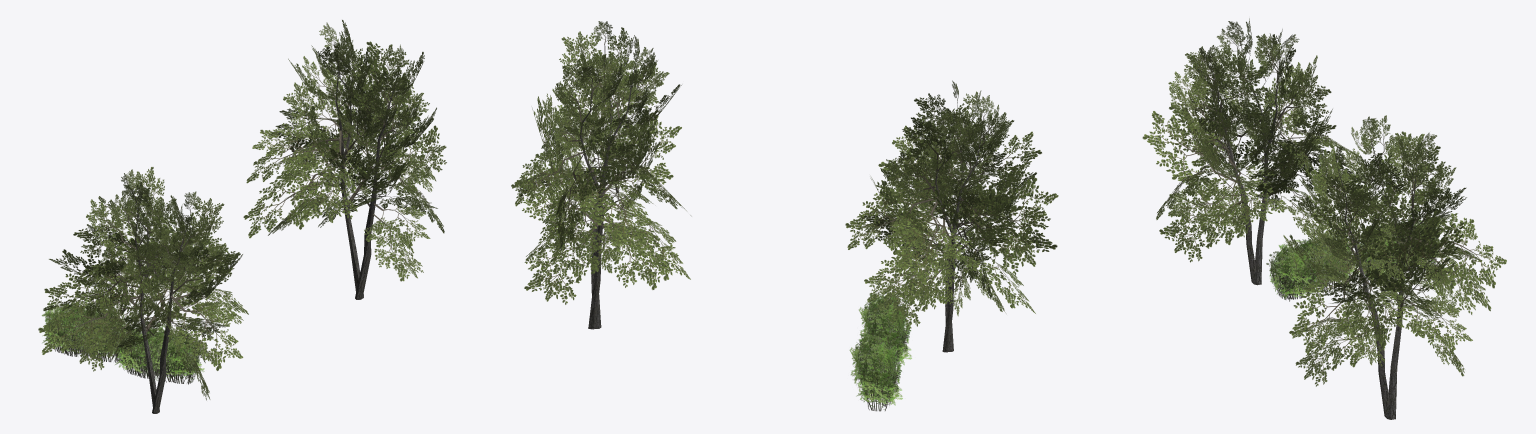
The model's file is BSN_Water_MainBush1.gltf.
The picture shows the model from 3 angles, left to right: view 1: azimuth 30°, elevation 25°; view 2: azimuth 150°, elevation 25°; view 3: azimuth 270°, elevation 25°; orthographic projection. The views are drawn at different scales.
Parts seen in each view (by area): view 1: Tree-01-1, Tree-01-2, Hedge-01, Hedge-01.001; view 2: Tree-01-1, Tree-01-2, Hedge-01.001, Hedge-01; view 3: Tree-01-1, Tree-01-2, Hedge-01, Hedge-01.001.
Part boxes in pixels (x1,y1,x2,y2): Tree-01-1: [243, 20, 446, 299]; Tree-01-2: [38, 167, 248, 413]; Hedge-01: [113, 323, 204, 384]; Hedge-01.001: [42, 301, 127, 362]; Tree-01-1: [511, 21, 690, 329]; Tree-01-2: [845, 80, 1058, 352]; Hedge-01.001: [849, 332, 902, 411]; Hedge-01: [859, 293, 911, 367]; Tree-01-1: [1283, 115, 1506, 419]; Tree-01-2: [1142, 18, 1367, 285]; Hedge-01: [1266, 231, 1356, 301]; Hedge-01.001: [1353, 215, 1440, 282].
Bounding box in the file's own units: 28.18 × 16.73 × 21.18.
Materials: 5 (5 with a texture image).
